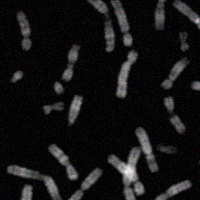chromosome: (7, 165, 63, 200), (80, 0, 114, 51), (50, 167, 101, 200), (106, 154, 143, 195), (173, 0, 200, 42), (47, 143, 77, 178), (116, 51, 137, 99), (122, 147, 141, 200), (135, 127, 157, 172), (111, 0, 132, 46), (161, 57, 188, 90), (165, 96, 185, 134), (153, 180, 191, 200), (17, 11, 31, 50), (69, 96, 82, 126), (9, 184, 32, 200), (154, 0, 165, 30), (43, 102, 62, 114), (61, 63, 73, 81), (179, 32, 189, 52), (157, 145, 177, 155), (68, 44, 79, 62), (192, 80, 200, 99), (9, 71, 22, 82), (54, 81, 63, 94)
